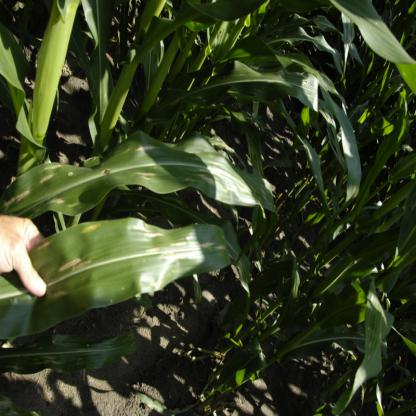corn leaf blight: (45, 220, 233, 339), (6, 132, 261, 214)
